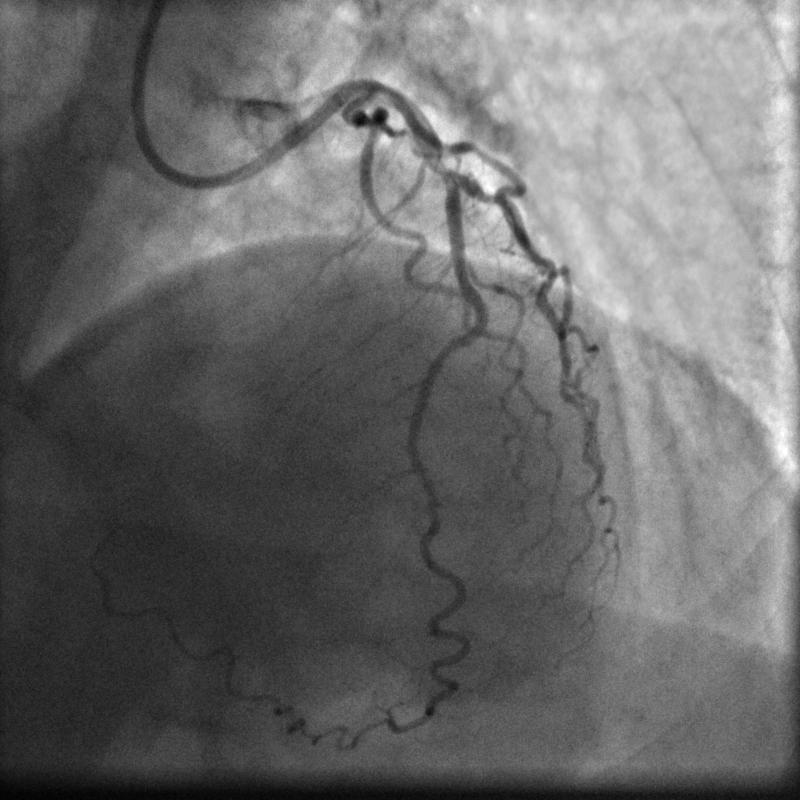Stenosis: (417, 152, 455, 176)
